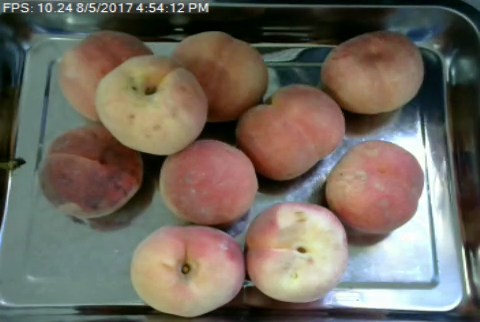Peach: (94, 55, 206, 156), (130, 224, 244, 318), (243, 202, 349, 303), (235, 84, 344, 182), (52, 27, 157, 127), (38, 122, 143, 217), (324, 139, 424, 234), (321, 29, 423, 115), (175, 30, 270, 120), (160, 138, 257, 225)
